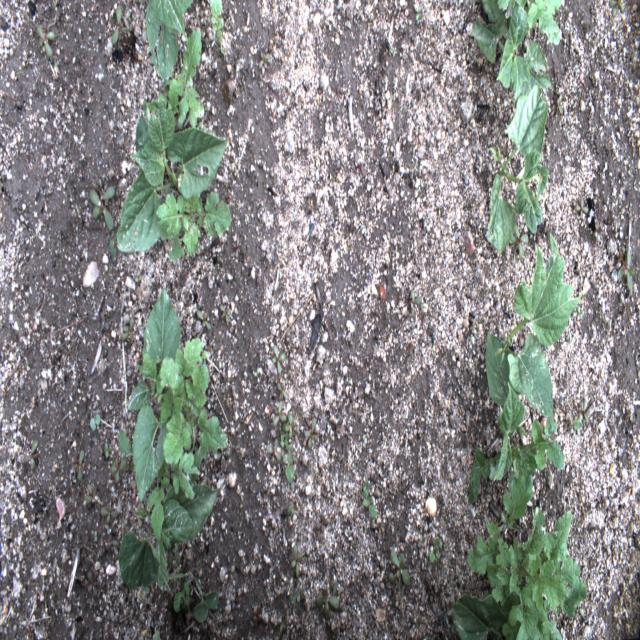crop: (486, 234, 586, 424), (117, 99, 230, 252), (118, 286, 180, 503), (118, 480, 226, 591), (486, 84, 548, 253), (466, 0, 563, 103), (145, 0, 193, 89), (451, 590, 512, 640)
weed: (466, 470, 587, 638), (134, 338, 228, 538), (469, 382, 565, 503), (155, 190, 231, 263), (158, 27, 205, 126), (174, 577, 219, 622), (89, 178, 116, 229), (208, 1, 226, 56), (616, 245, 634, 292), (314, 582, 339, 614), (280, 413, 300, 452), (388, 550, 410, 585), (361, 478, 378, 521), (37, 23, 56, 56), (511, 224, 528, 260), (23, 438, 39, 470), (304, 416, 319, 450), (265, 438, 281, 468), (112, 6, 124, 44), (272, 398, 288, 426), (111, 457, 128, 483), (272, 345, 286, 373), (73, 449, 85, 480), (282, 452, 294, 483), (291, 544, 302, 576), (574, 196, 588, 221), (429, 536, 441, 563), (120, 318, 134, 341), (291, 584, 305, 606), (608, 0, 624, 18), (258, 50, 272, 70), (197, 309, 210, 330), (101, 506, 118, 522), (565, 412, 582, 428), (86, 484, 98, 504), (578, 400, 588, 423), (554, 91, 563, 115), (220, 305, 230, 324), (89, 414, 100, 431), (104, 443, 111, 458)
